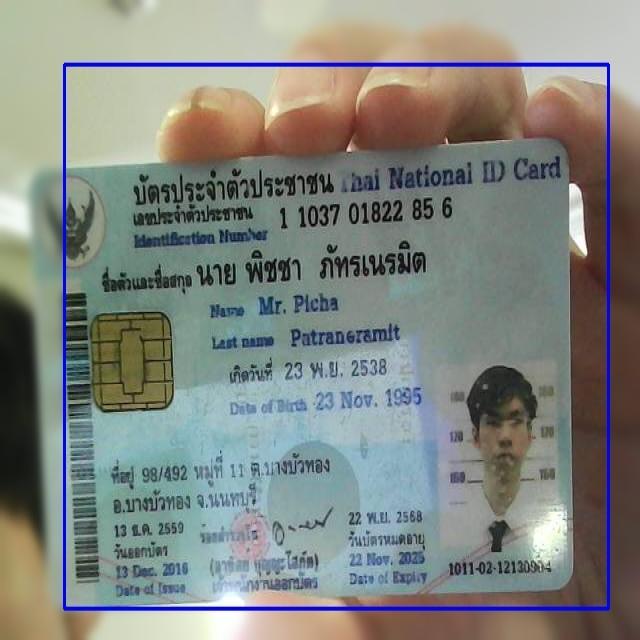Address_th: (107, 442, 340, 516)
Date_of_Birth: (314, 383, 425, 414)
First_Name: (255, 289, 344, 319)
ID_Number: (275, 196, 456, 233)
Image: (438, 364, 557, 552)
Last_Name: (289, 322, 404, 351)
Thai_Name: (192, 238, 435, 292)
